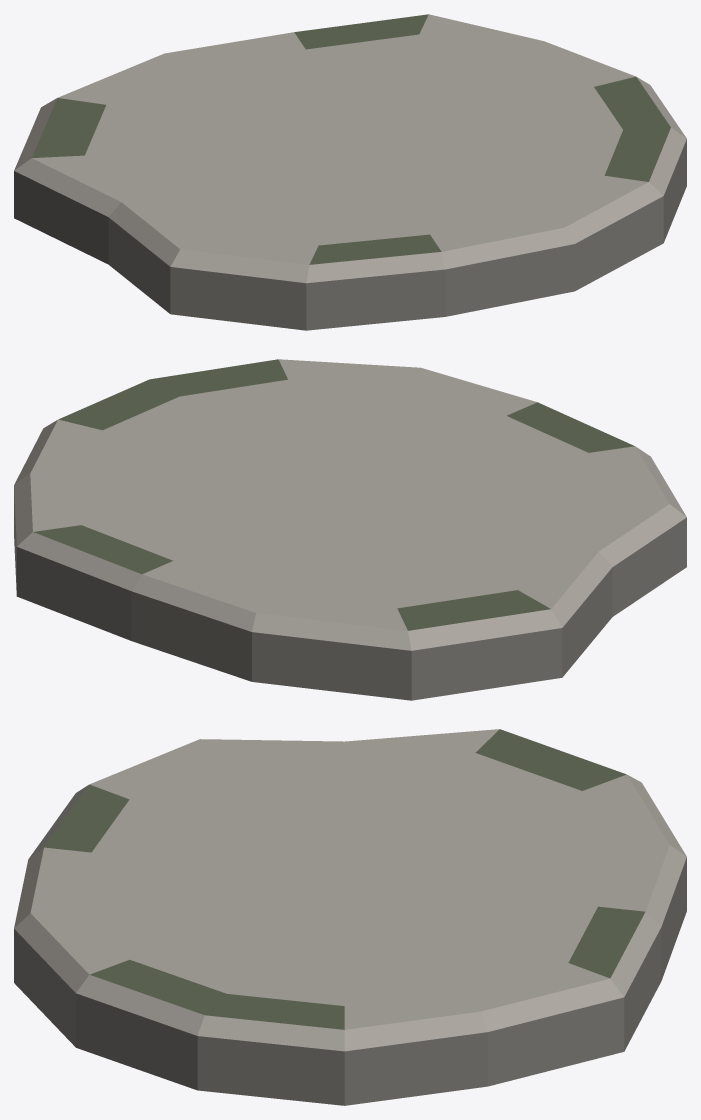
Rendered from stepping_stone_b.fbx.
The picture shows the model from 3 angles, top to bottom: view 1: azimuth 30°, elevation 25°; view 2: azimuth 150°, elevation 25°; view 3: azimuth 270°, elevation 25°; orthographic projection. The views are drawn at different scales.
Parts seen in each view (by area): view 1: stepping_stone_b; view 2: stepping_stone_b; view 3: stepping_stone_b.
Part boxes in pixels (box(x1,y1,x2,y2)): stepping_stone_b: box(14, 14, 686, 330); stepping_stone_b: box(14, 359, 686, 700); stepping_stone_b: box(14, 729, 686, 1105).
Size of the model in its own units: 0.3991 by 0.3584 by 0.04.
